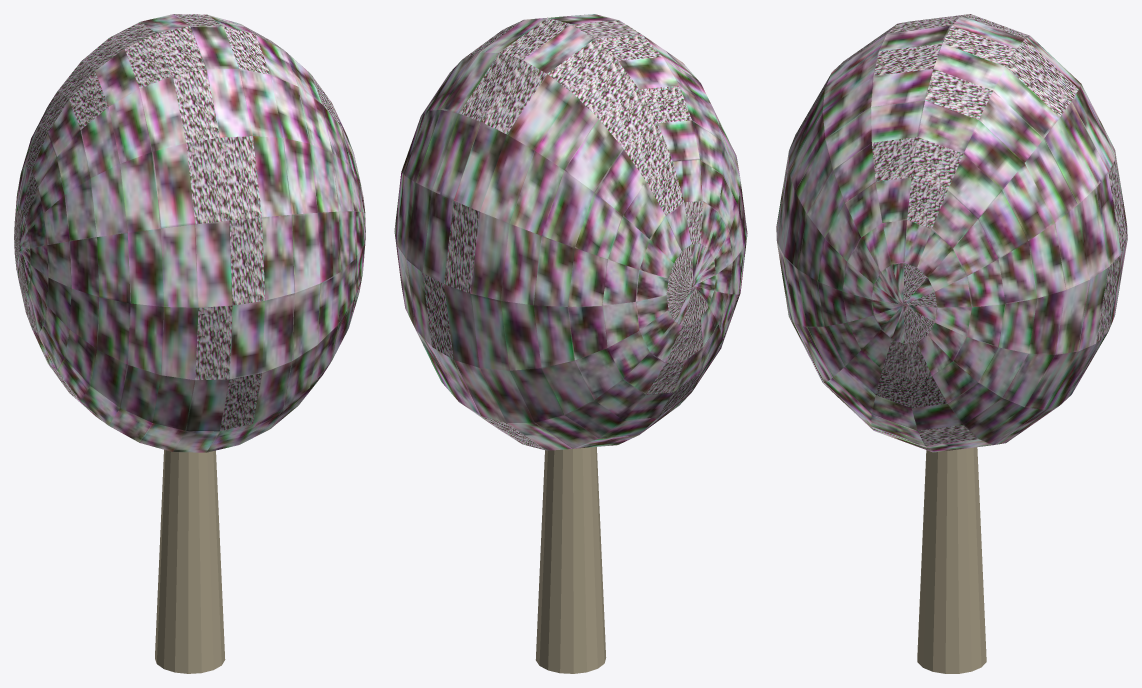
The model's file is GMLID_SO0286258_965_2893.gltf.
3 renders of one model, left to right at view 1: azimuth 30°, elevation 25°; view 2: azimuth 150°, elevation 25°; view 3: azimuth 270°, elevation 25°, orthographic.
Parts seen in each view (by area): view 1: Z_UP; view 2: Z_UP; view 3: Z_UP.
Boxes of the visible parts, box(x1,y1,x2,y2) form: Z_UP: box(14, 14, 365, 673); Z_UP: box(394, 14, 747, 673); Z_UP: box(776, 14, 1127, 673).
Size of the model in its own units: 6.75 by 13.43 by 6.75.
2 materials, 1 textured.
